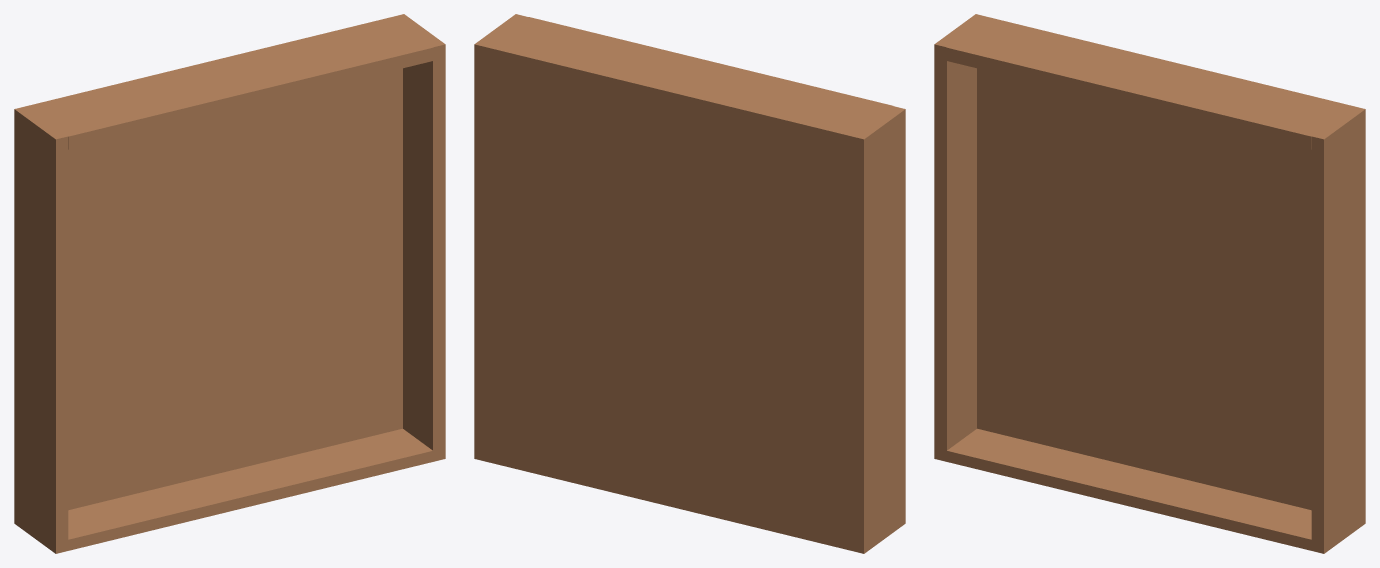
File: Panel1by1.fbx
3 renders of one model, left to right at view 1: azimuth 30°, elevation 25°; view 2: azimuth 150°, elevation 25°; view 3: azimuth 330°, elevation 25°, orthographic.
Parts seen in each view (by area): view 1: Panel1by1; view 2: Panel1by1; view 3: Panel1by1.
Part boxes in pixels (x1,y1,x2,y2): Panel1by1: (14,14,445,553); Panel1by1: (474,14,905,553); Panel1by1: (934,14,1365,553).
Size of the model in its own units: 28.03 by 5.2 by 28.49.
